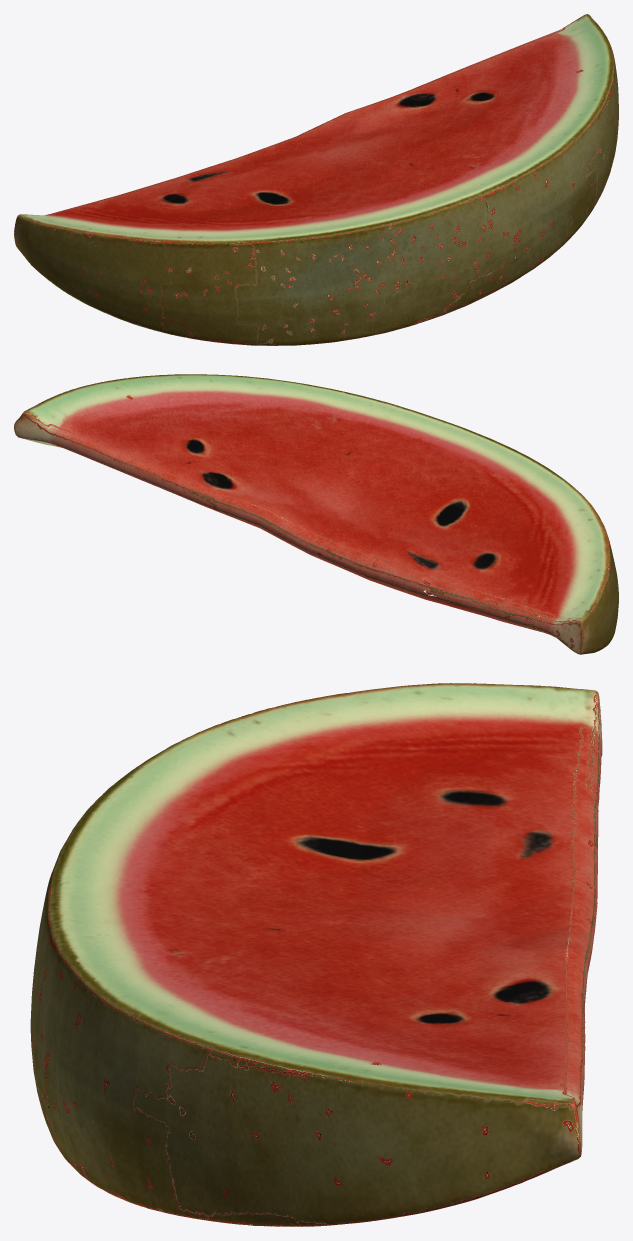
3 renders of one model, top to bottom at view 1: azimuth 30°, elevation 25°; view 2: azimuth 150°, elevation 25°; view 3: azimuth 270°, elevation 25°, orthographic. The views are drawn at different scales.
Bounding box in the file's own units: 1.83 × 0.4428 × 0.7887.
1 material, 1 textured.
